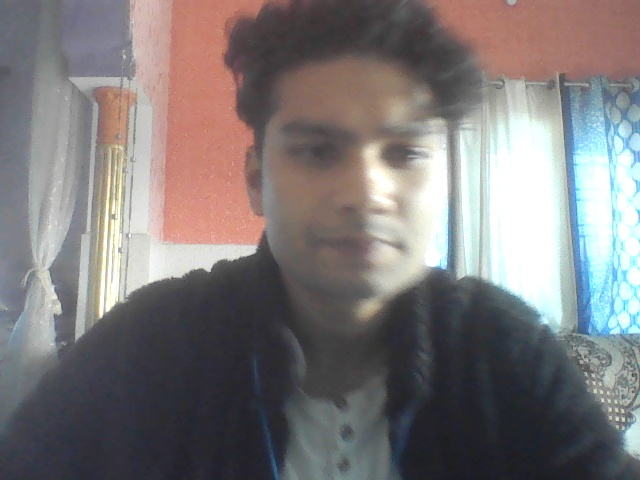real: (234, 0, 482, 351)
